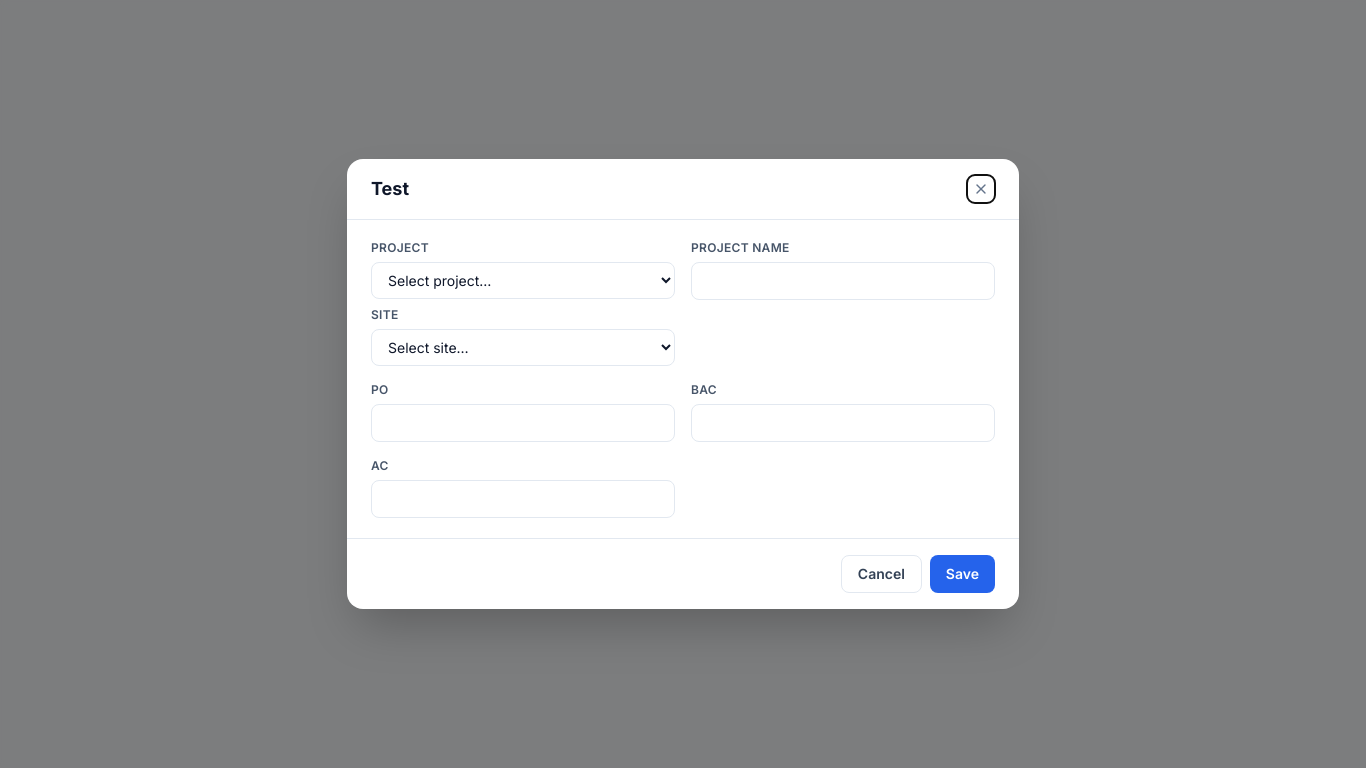
Test: EntityFormModal — sitePicker › blocks submit until a site is chosen (required)
What coordinates should you click on to do the following:
click the button "Save"
I would click on:
 (962, 574)
Its box is [930,555,995,593].
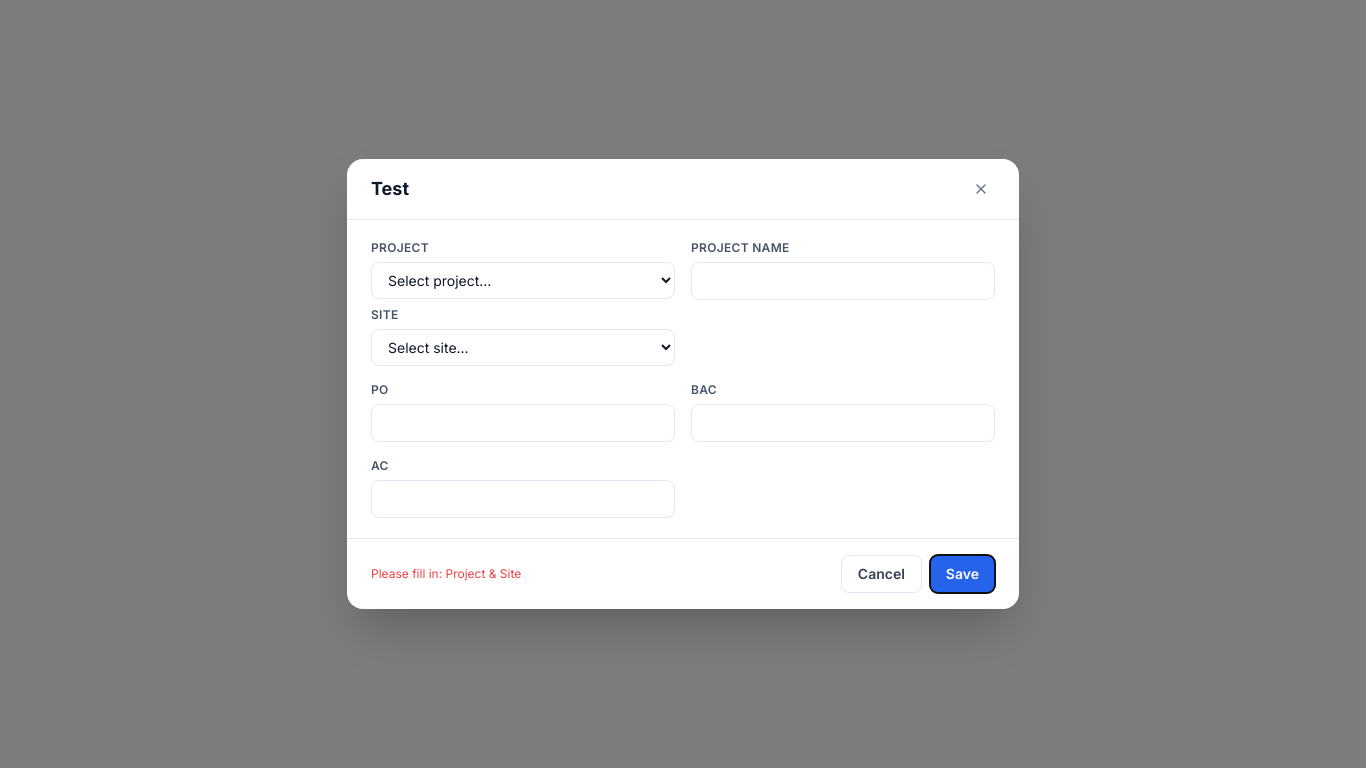
Result: the text "Please fill in: Project & Site" is shown at [371,566,521,581]
